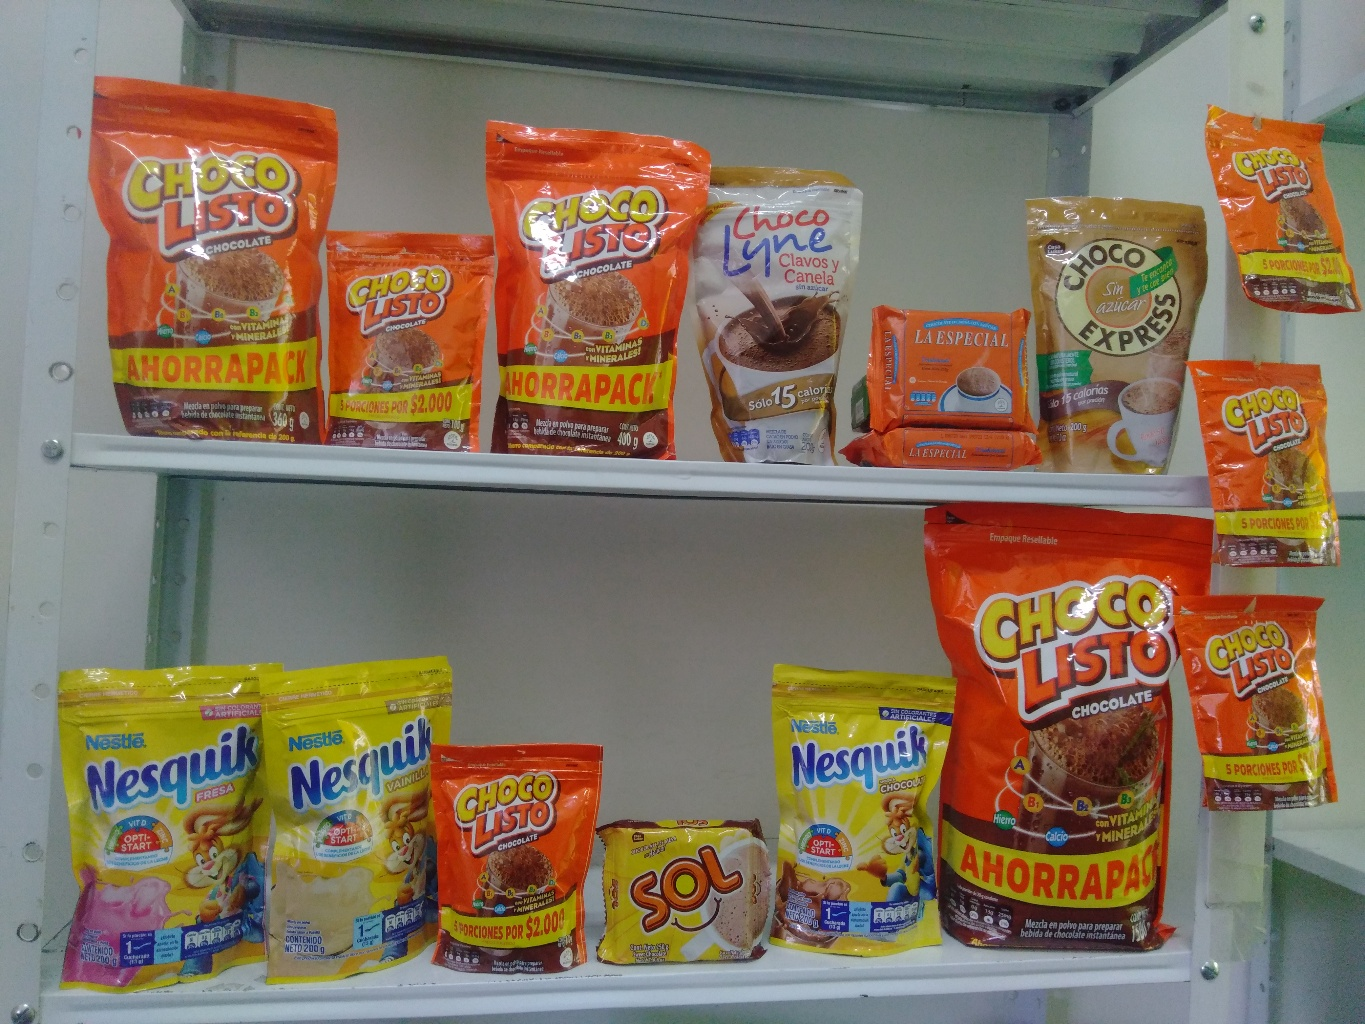COL0170103DYP1,500: (915, 509, 1226, 955)
COL0170103DYP10000: (312, 222, 488, 453)
COL0170103DYP36000: (76, 71, 338, 451)
COL0170103DYP40000: (483, 120, 701, 453)
COL0170303DYP20000: (760, 652, 961, 948)
COL0170305DYP20000: (45, 658, 288, 998)
COL0170306DYP20000: (254, 651, 482, 975)
